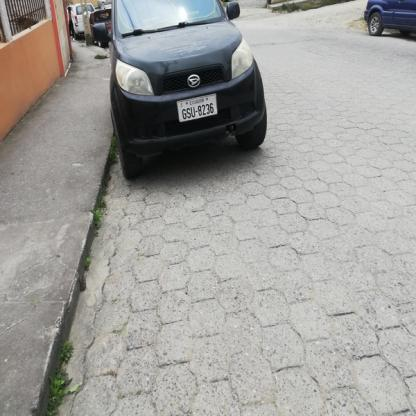Placa: (172, 95, 219, 123)
